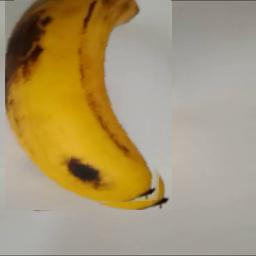Banana Semifresh: (5, 0, 172, 210)
